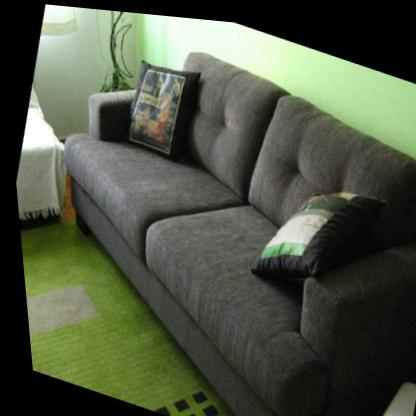Carpet: (16, 211, 230, 416)
Sofa: (1, 8, 416, 416)
